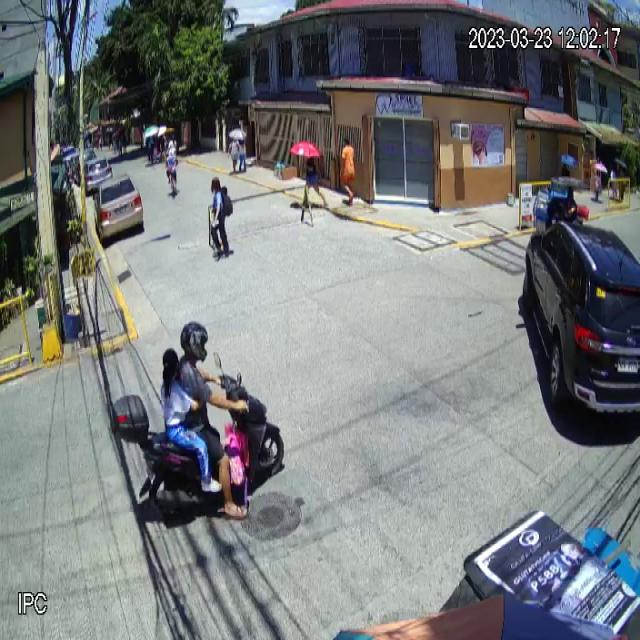Car: (515, 215, 640, 434)
Motorcycle: (109, 368, 284, 506)
